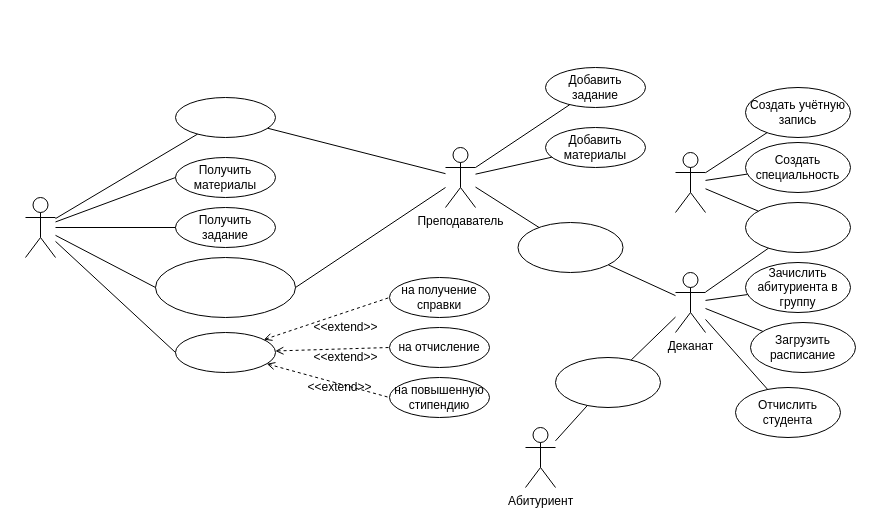
The diagram is 873 pixels wide and 525 high, and some of its shapes have lost their labels. Here are the shapes that lost their labels. From the top down, the centre of each, then its label:
[225,117]: Получить расписание
[690,182]: Администратор
[40,227]: Студент
[570,247]: Назначить преподавателя группе
[797,227]: Создать группу
[225,287]: Загрузить отчёт о выполнении задания
[225,352]: Подать заявление
[607,382]: подать заявление на поступление
